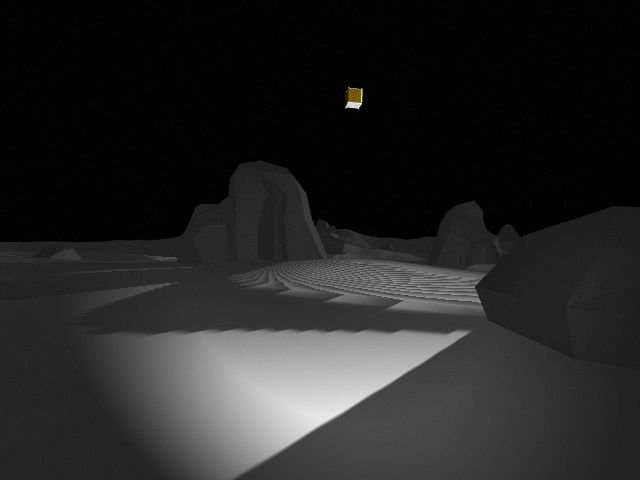cubesat: (343, 84, 366, 112)
